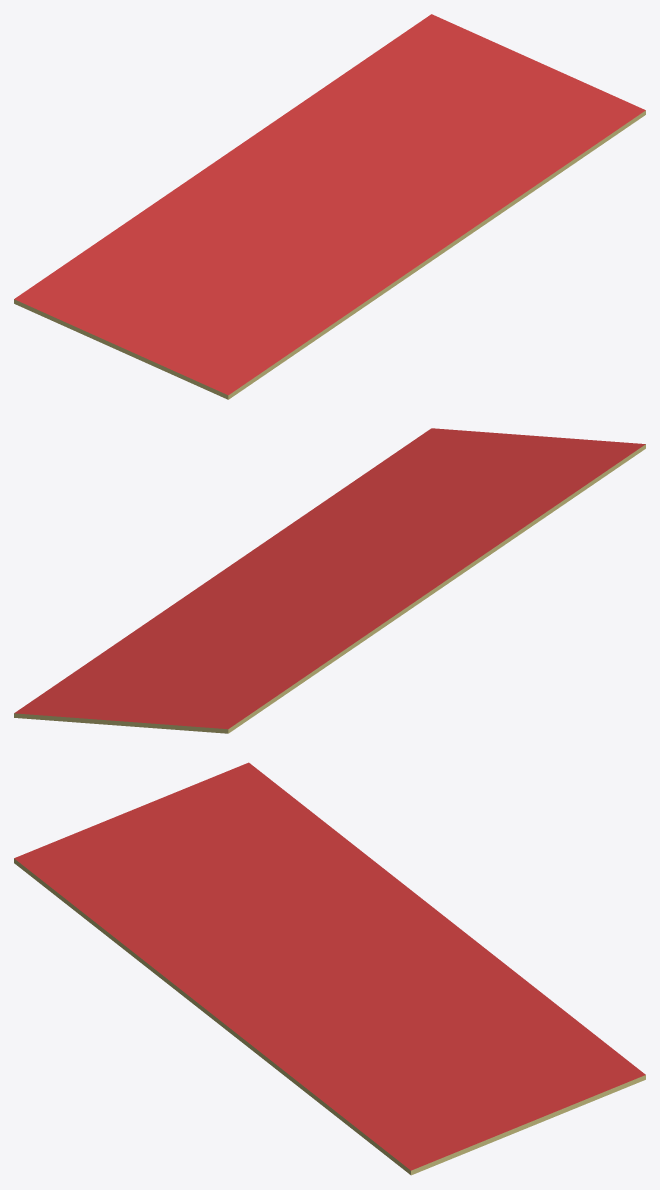
3 views of the same model, one above another, from view 1: azimuth 30°, elevation 25°; view 2: azimuth 210°, elevation 25°; view 3: azimuth 270°, elevation 25° (orthographic). The views are drawn at different scales.
Size of the model in its own units: 16.34 by 11.93 by 0.985.
